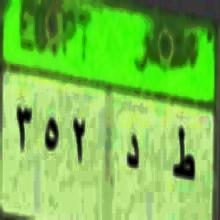2: (70, 112, 87, 174)
3: (16, 100, 34, 158)
5: (41, 109, 59, 163)
Taa: (170, 122, 196, 189)
daal: (123, 126, 141, 184)
